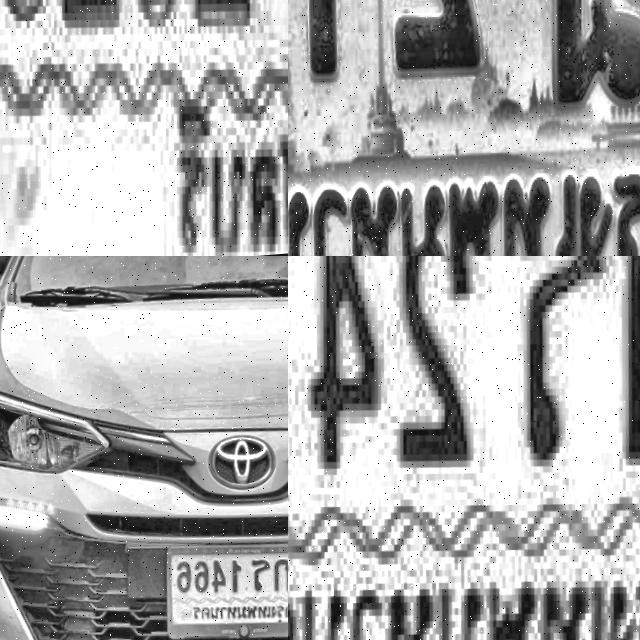license-plate: (288, 256, 640, 640), (288, 0, 640, 256), (0, 0, 288, 256), (150, 538, 288, 640)
